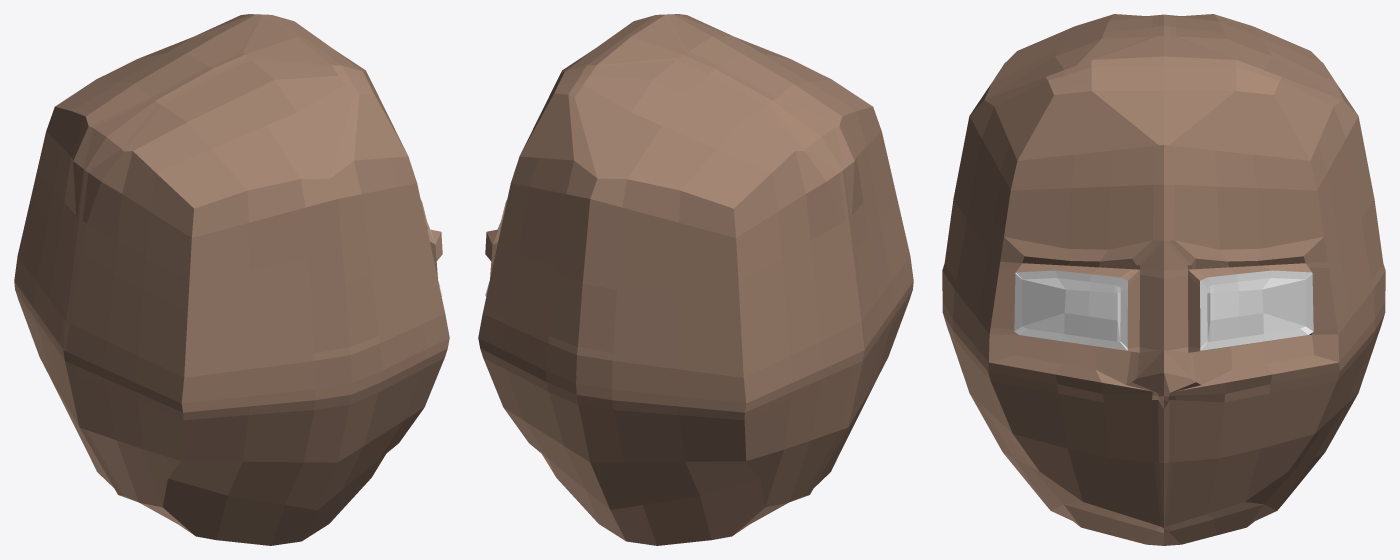
The model's file is Humans_Low_Poly(.blend).fbx.
3 renders of one model, left to right at view 1: azimuth 30°, elevation 25°; view 2: azimuth 150°, elevation 25°; view 3: azimuth 270°, elevation 25°, orthographic. The views are drawn at different scales.
Parts seen in each view (by area): view 1: Head; view 2: Head; view 3: Head.
Part boxes in pixels (bbox=[...]): Head: bbox=[14, 14, 449, 545]; Head: bbox=[478, 14, 913, 545]; Head: bbox=[942, 14, 1385, 545].
Bounding box in the file's own units: 313 × 364 × 302.
